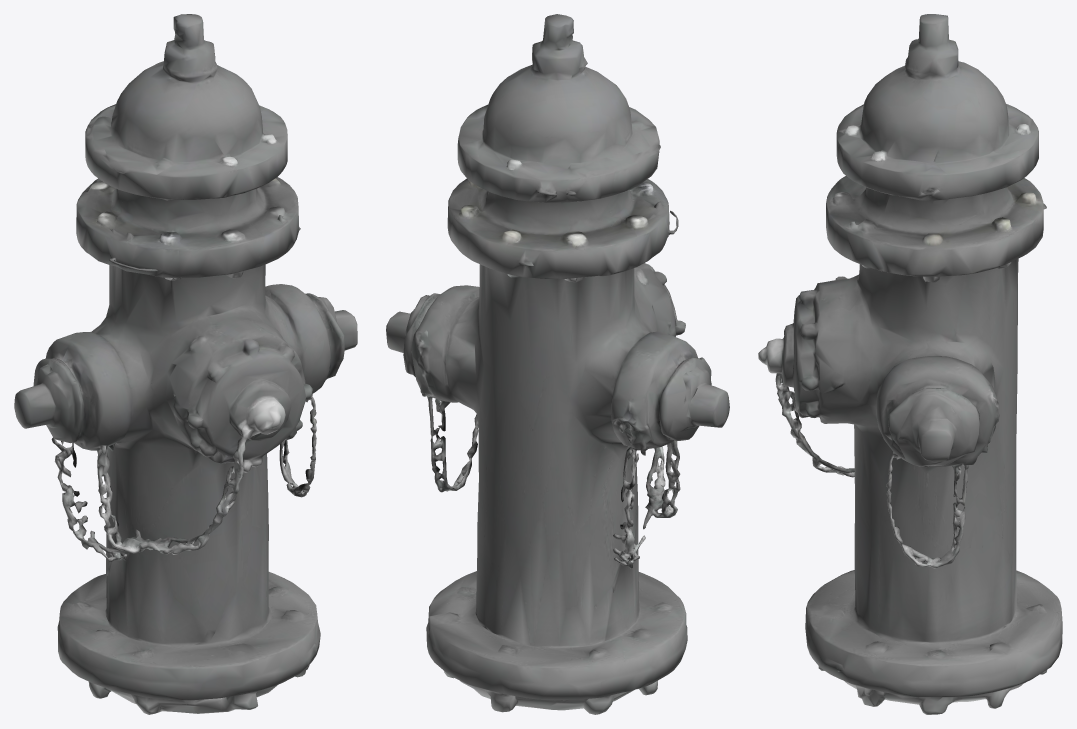
The model's file is hydrant.glb.
3 views of the same model, side by side, from view 1: azimuth 30°, elevation 25°; view 2: azimuth 150°, elevation 25°; view 3: azimuth 270°, elevation 25° (orthographic).
Size of the model in its own units: 1.06 by 2 by 0.846.
1 material, 1 textured.
